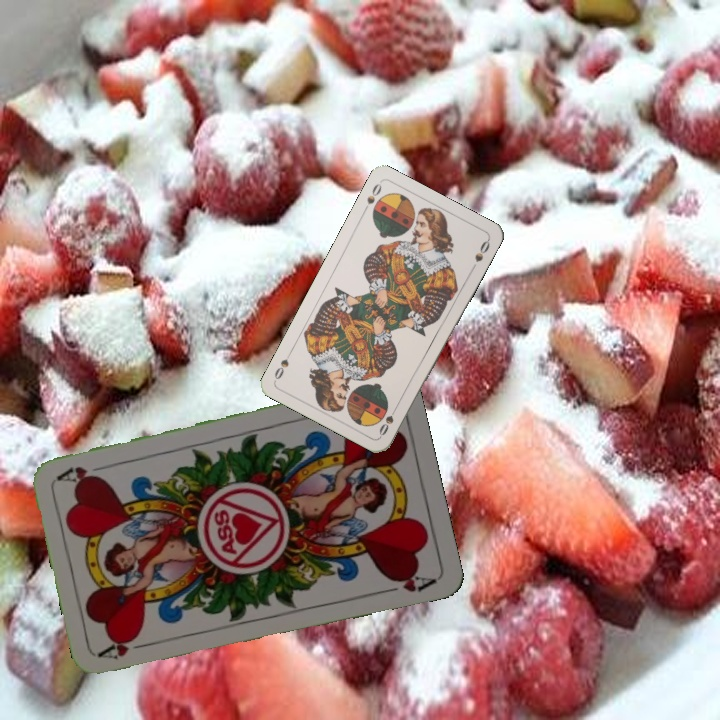HA: (96, 633, 155, 662)
SO: (375, 401, 401, 438), (359, 179, 384, 216)
